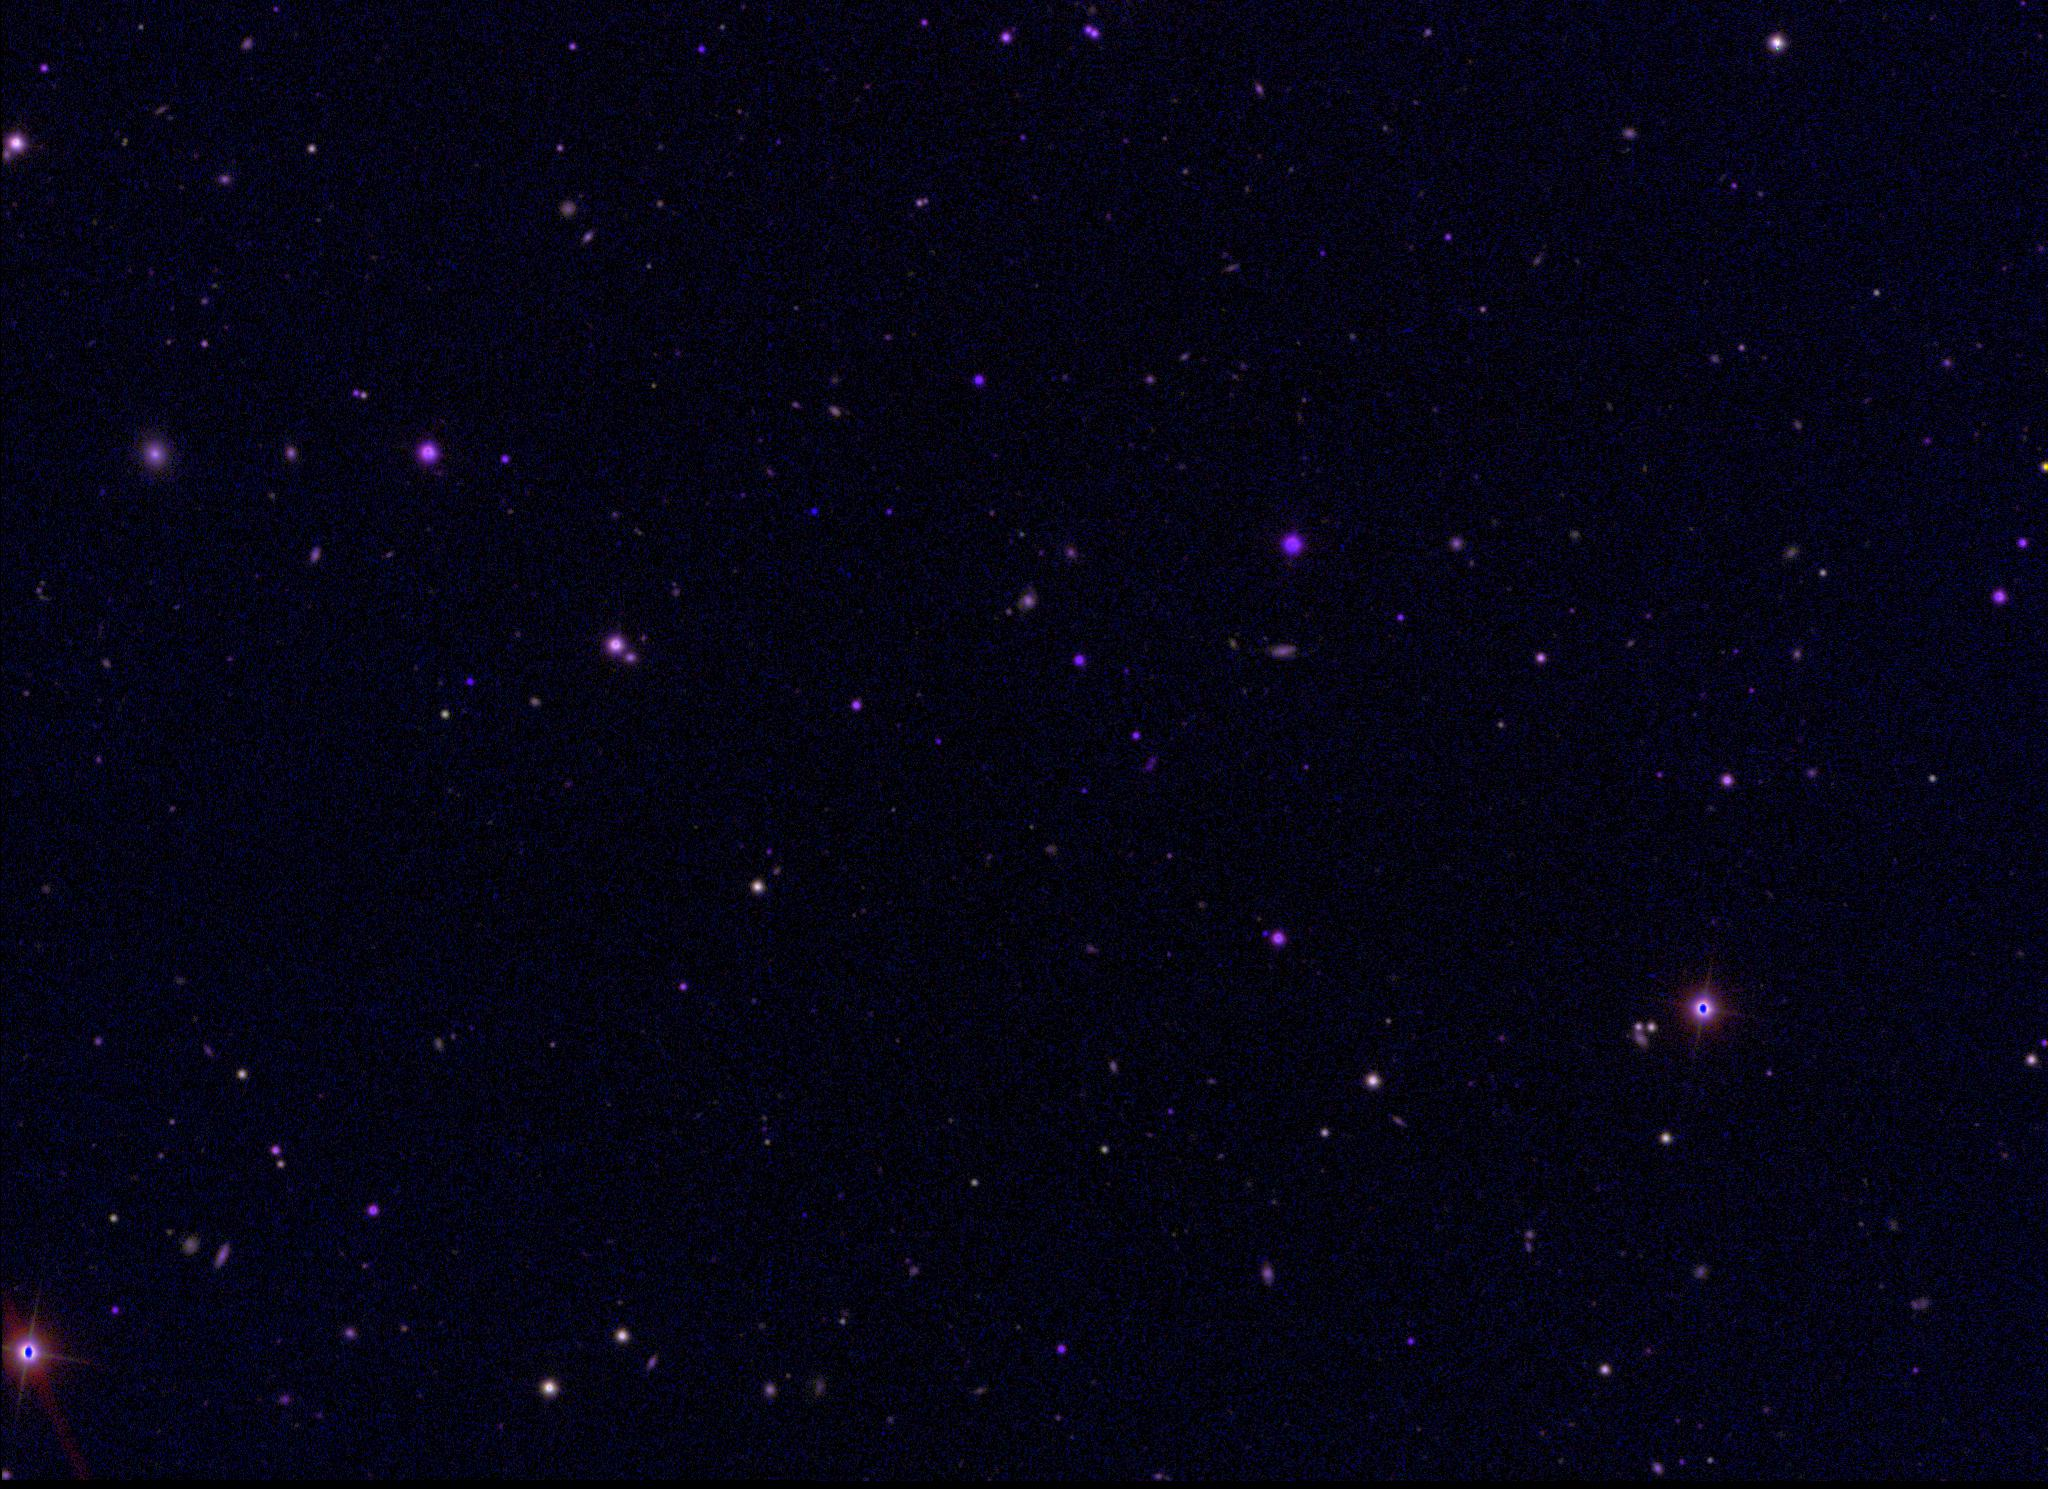L: (808, 501, 822, 515)
